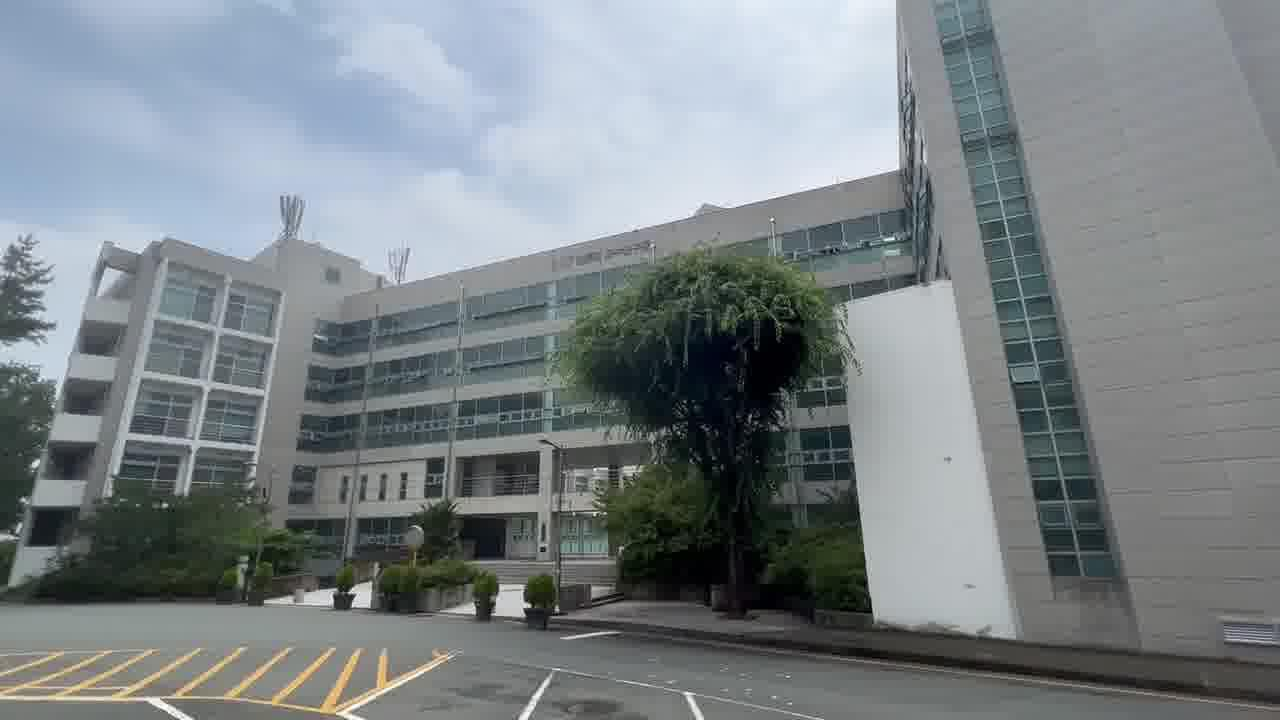building: (84, 199, 553, 484)
